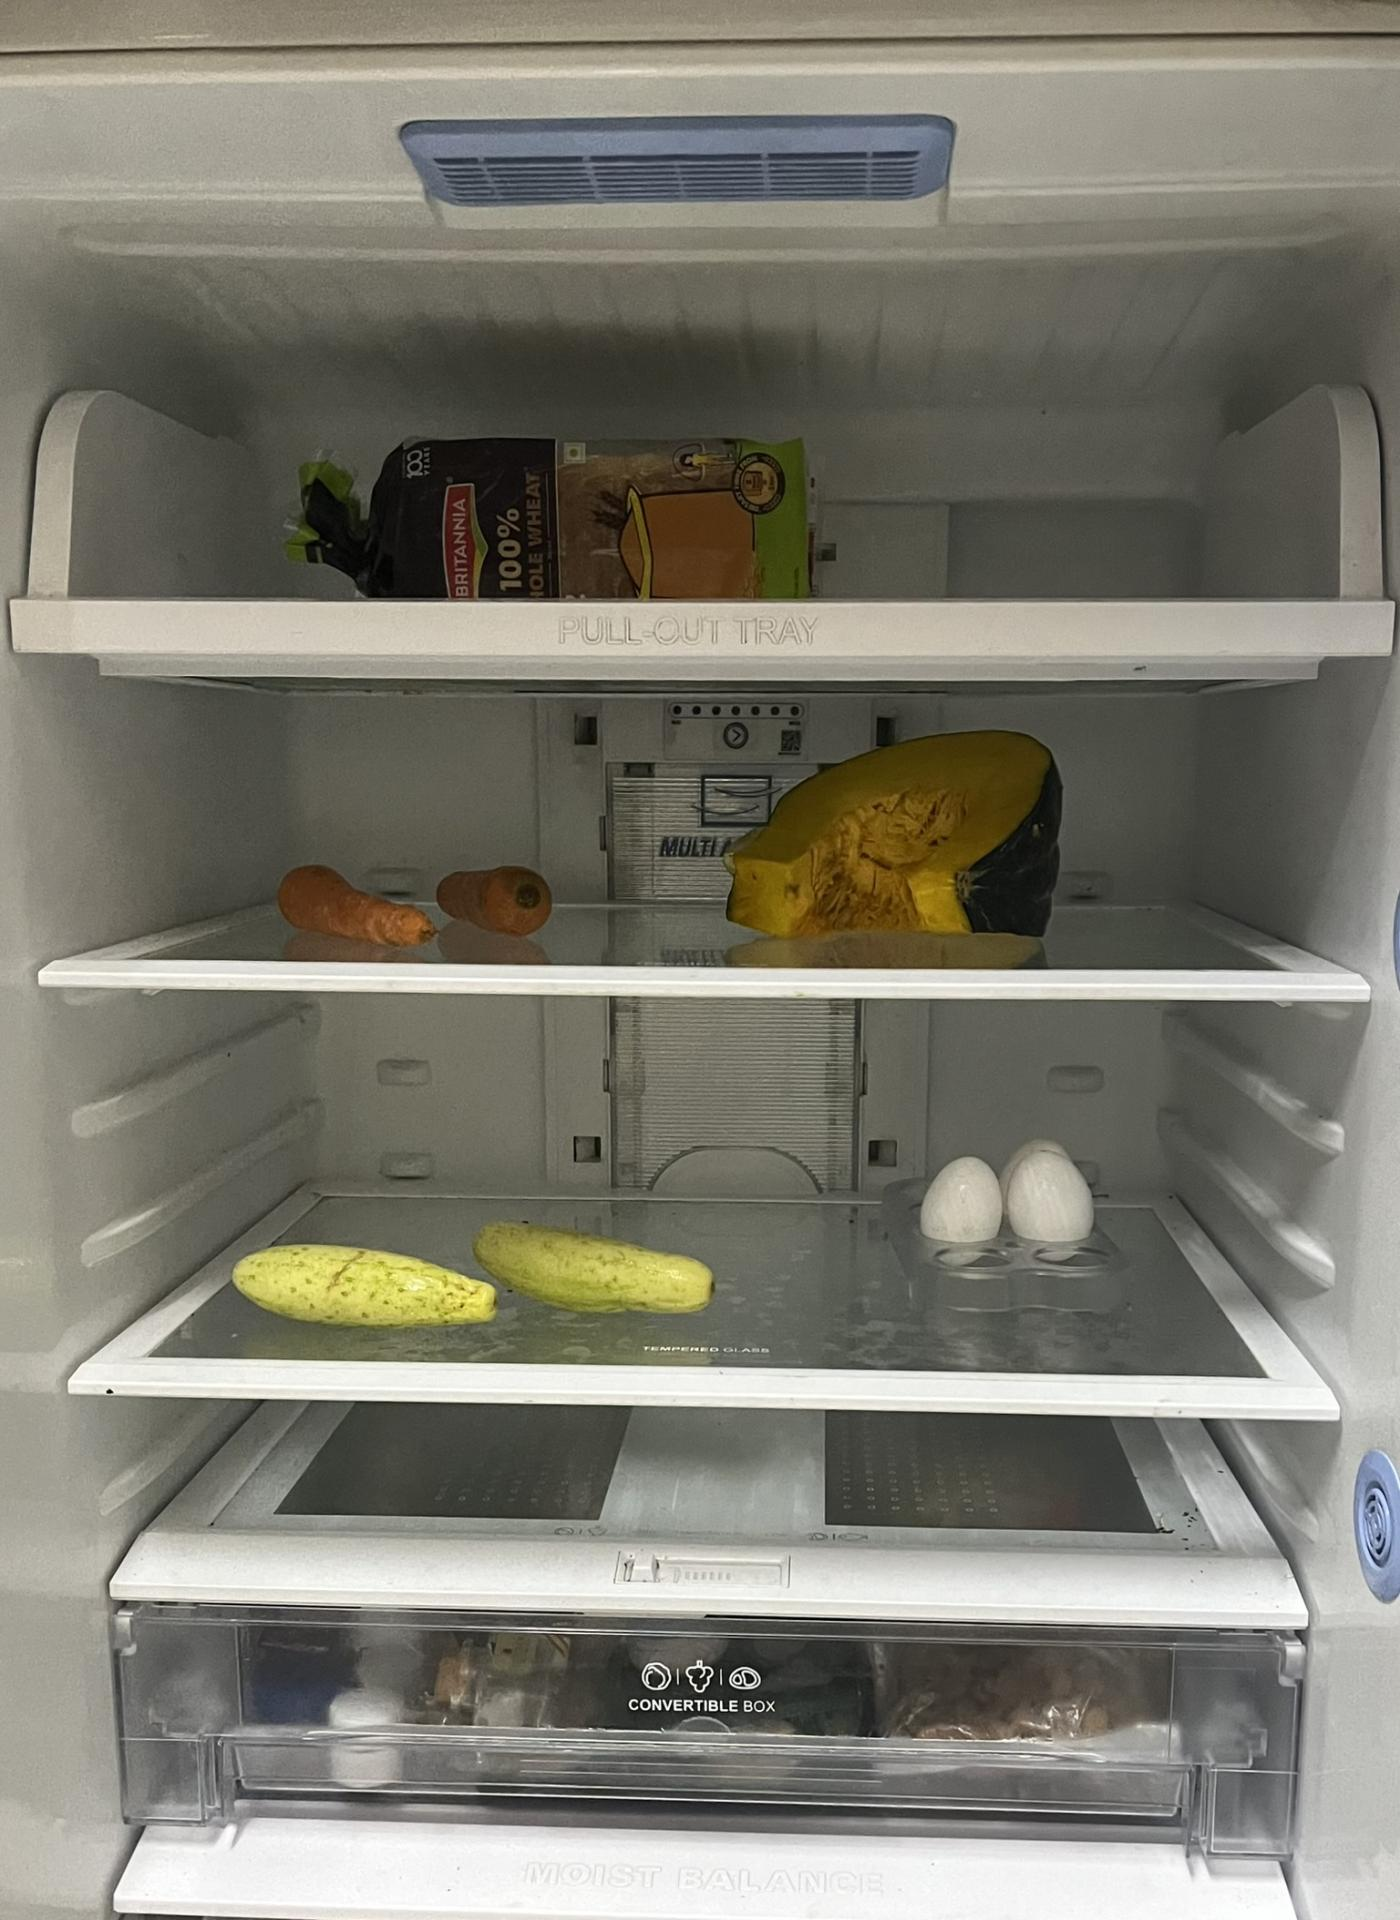bread: (291, 419, 824, 598)
carrots: (276, 871, 431, 953), (434, 862, 556, 941)
cucumber: (224, 1234, 499, 1333), (468, 1216, 716, 1315)
egg: (926, 1134, 1091, 1260)
pumpkin: (722, 724, 1066, 932)
